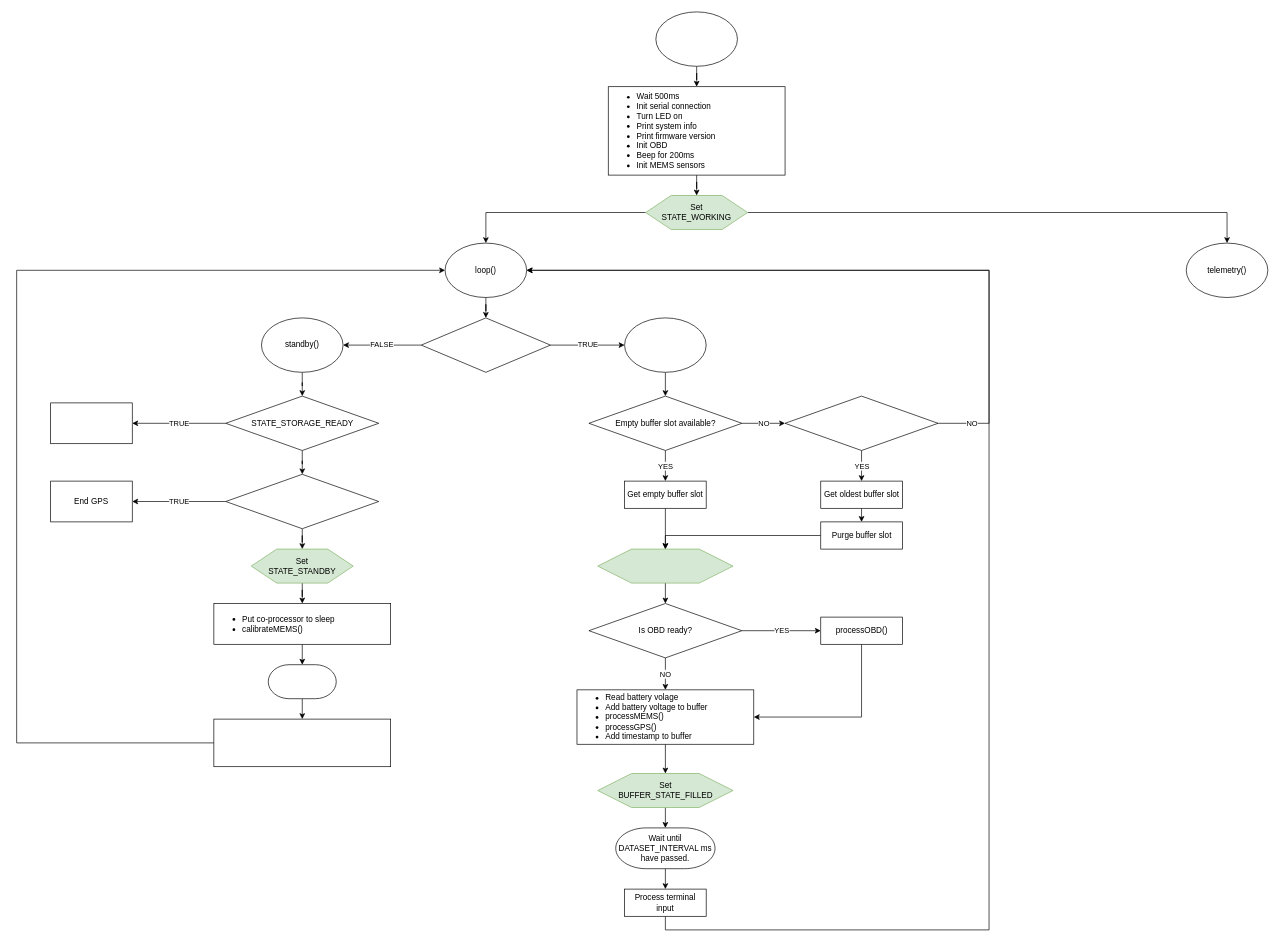
Image size: 1280x947. Some labels were removed from this diagram. Here are the shapes that lost their labels. From the top down, the centre of each, then its label:
At (x=696, y=38): "setup()".
At (x=485, y=344): "STATE_WORKING".
At (x=665, y=344): "process()".
At (x=91, y=423): "End logger".
At (x=861, y=423): "Oldest buffer slot available?".
At (x=302, y=501): "STATE_GPS_READY".
At (x=665, y=565): "Set BUFFER_STATE_FILLING".
At (x=302, y=681): "Wait for motion".
At (x=302, y=742): "Wake co-processor Turn LED on initialize() Turn LED off".
